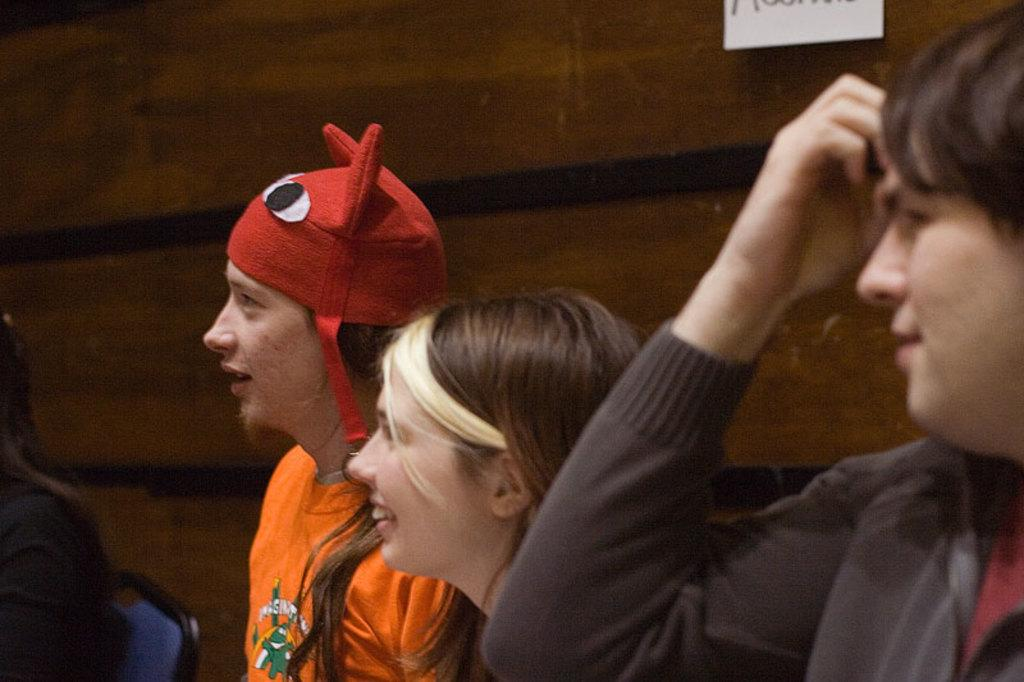Sem Máscara: (852, 131, 1017, 444), (349, 370, 494, 570), (198, 256, 314, 418)
